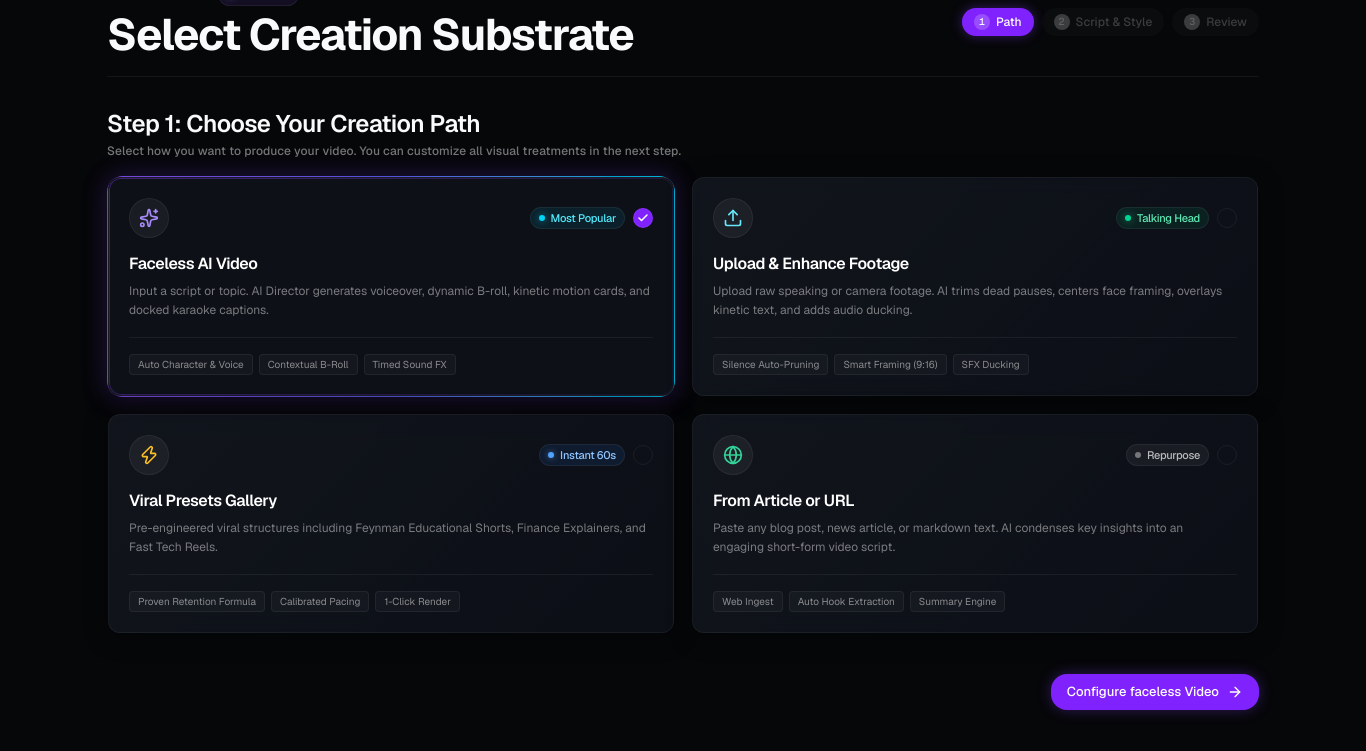
Test: Phase 4: Create Flow Wizard › CreateWizardPage Integration › prevents advancing to Step 3 in upload mode if no video file was selected
Select Upload & Enhance Footage path (automatically advances to Step 2)
Click the heading "Upload & Enhance Footage" at x=811, y=263, box [713,253,909,274]
(page scrolled)
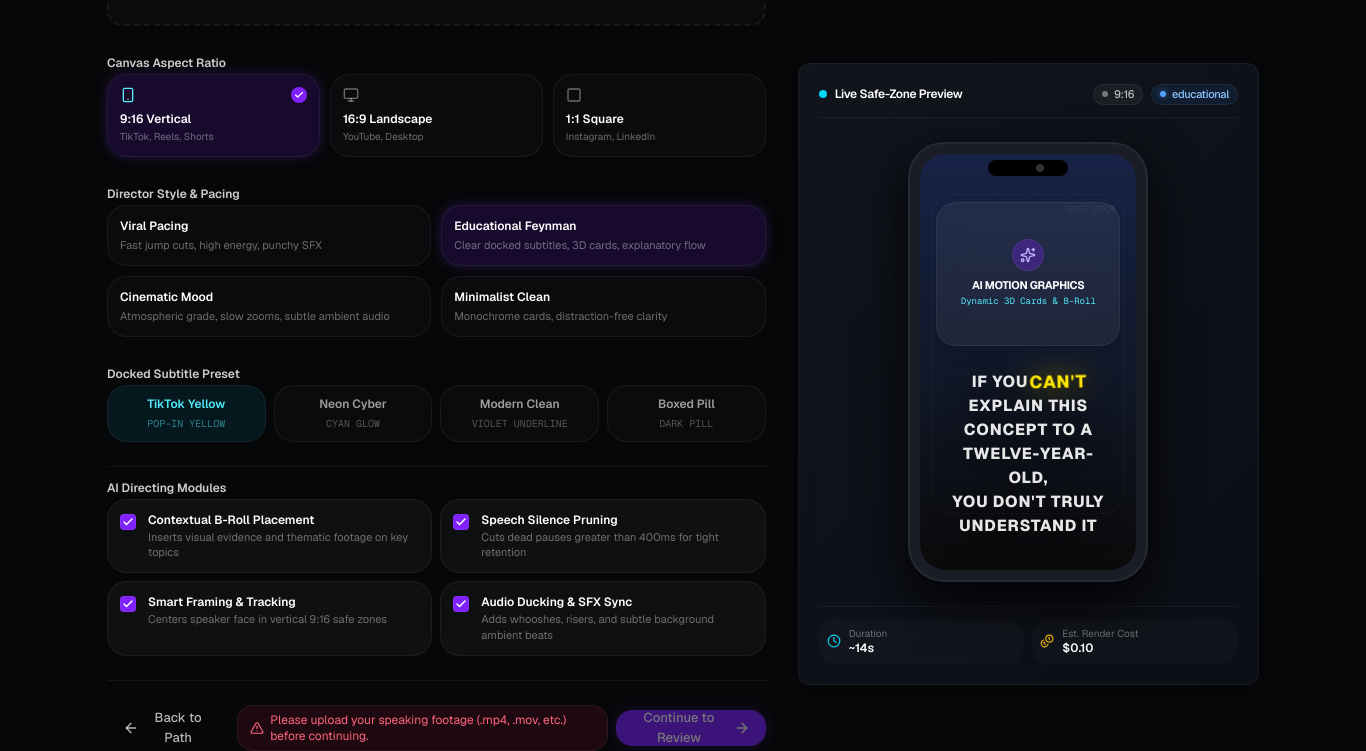
Expected: the button "Continue to Review" is disabled, [616,710,766,746]
Expected: the text "Please upload your speaking footage" is shown, [270,712,566,744]
